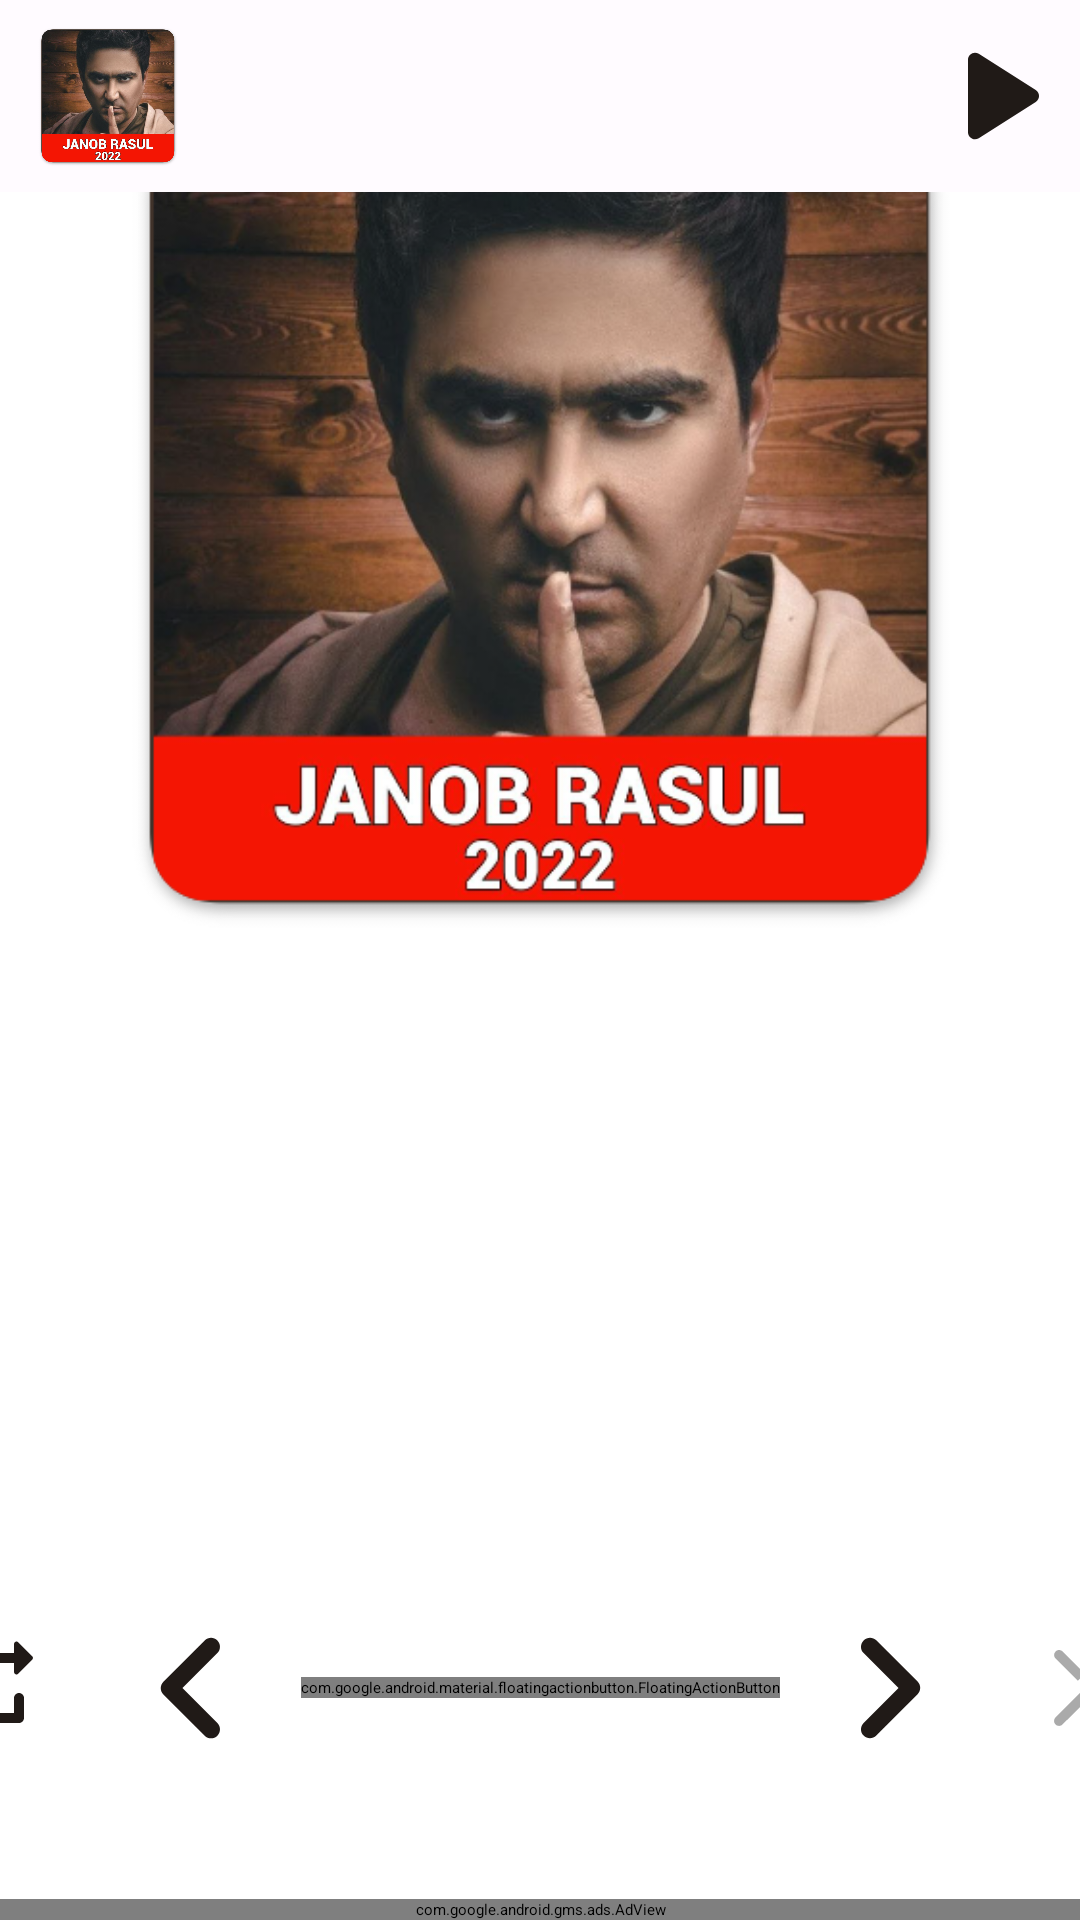

Named icons in this screenshot (1080 × 1920) and their bounding boxes, bbox(x1, y1, x2, y2):
next: bbox(861, 1637, 921, 1739)
play: bbox(968, 52, 1039, 140)
prev: bbox(160, 1637, 220, 1739)
